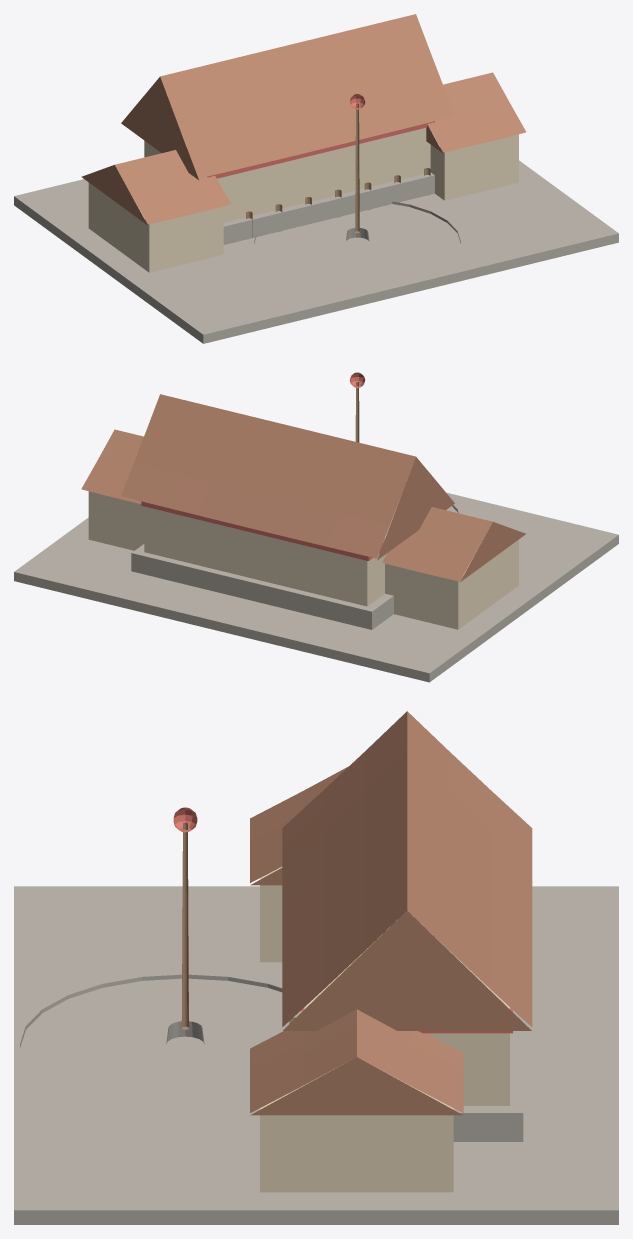
Rendered from lm_88_trung_tam_hanh_chinh_va_nha_van_hoa_k_ho_lac_duong.glb.
The picture shows the model from 3 angles, top to bottom: view 1: azimuth 30°, elevation 25°; view 2: azimuth 150°, elevation 25°; view 3: azimuth 270°, elevation 25°; orthographic projection. The views are drawn at different scales.
Visible parts, largest first — view 1: lm_88_trung_tam_hanh_chinh_va_nha_van_hoa_k_ho_lac_duong; view 2: lm_88_trung_tam_hanh_chinh_va_nha_van_hoa_k_ho_lac_duong; view 3: lm_88_trung_tam_hanh_chinh_va_nha_van_hoa_k_ho_lac_duong.
Boxes of the visible parts, x1=… form: lm_88_trung_tam_hanh_chinh_va_nha_van_hoa_k_ho_lac_duong: x1=14, y1=14, x2=618, y2=343; lm_88_trung_tam_hanh_chinh_va_nha_van_hoa_k_ho_lac_duong: x1=14, y1=372, x2=618, y2=682; lm_88_trung_tam_hanh_chinh_va_nha_van_hoa_k_ho_lac_duong: x1=14, y1=711, x2=618, y2=1224.
Bounding box in the file's own units: 38 × 13.92 × 30.
